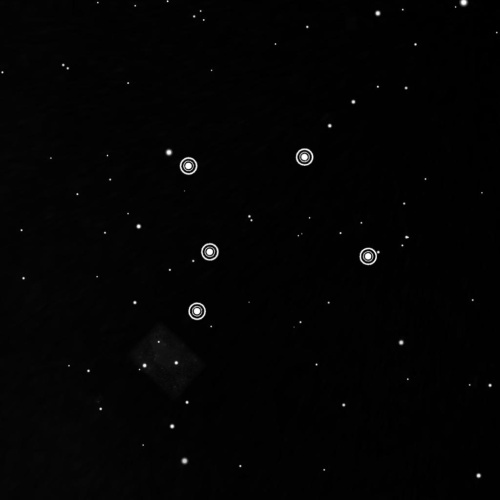libra: (172, 143, 382, 328)
